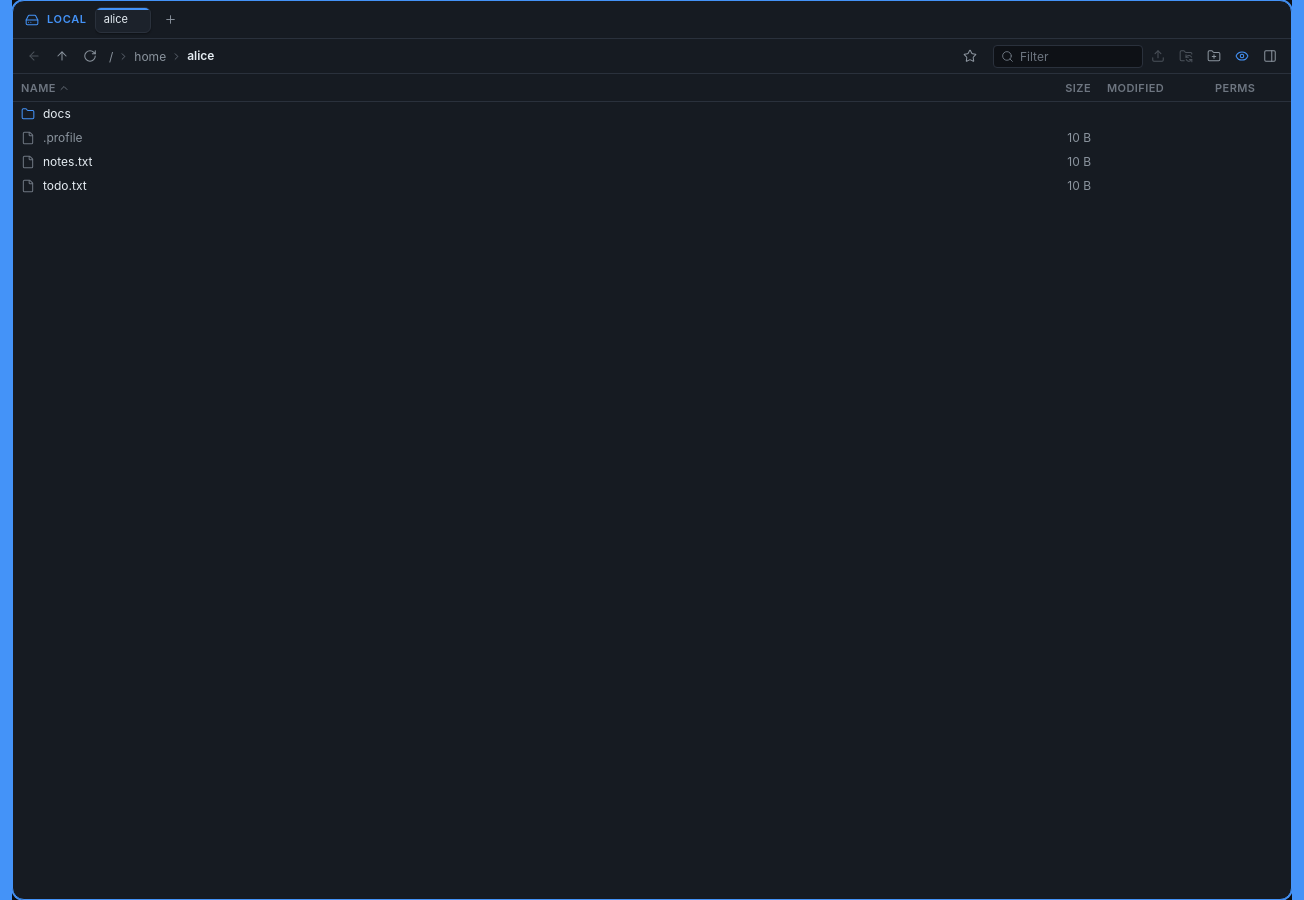
Test: Pane › toggles hidden files, starting from the setting
Expected: the text "notes.txt" is shown, [43,153,92,171]
Click the button named "Show hidden files": x=1242, y=56 [1229,43,1255,69]
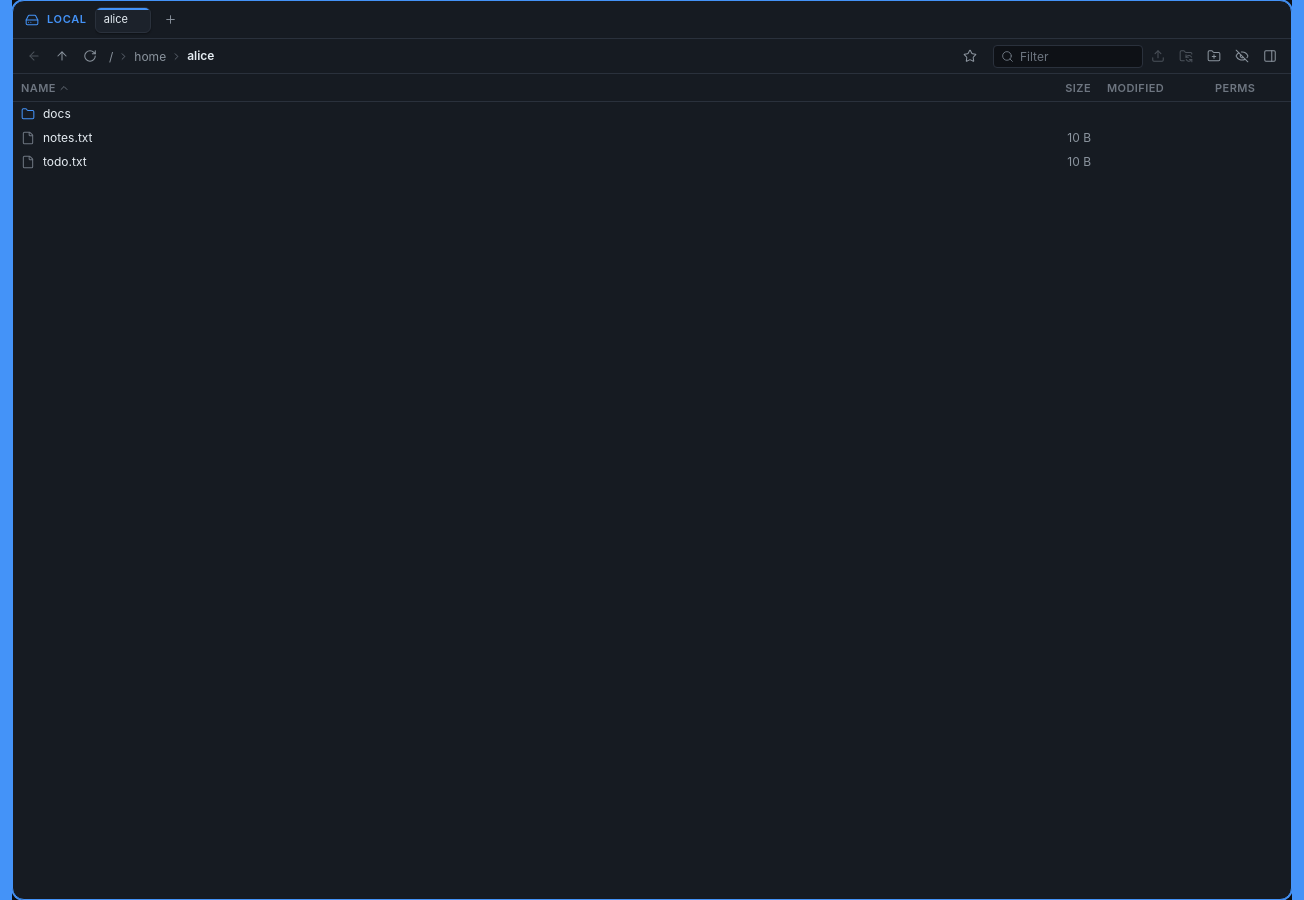
Expected: the text ".profile" is gone
